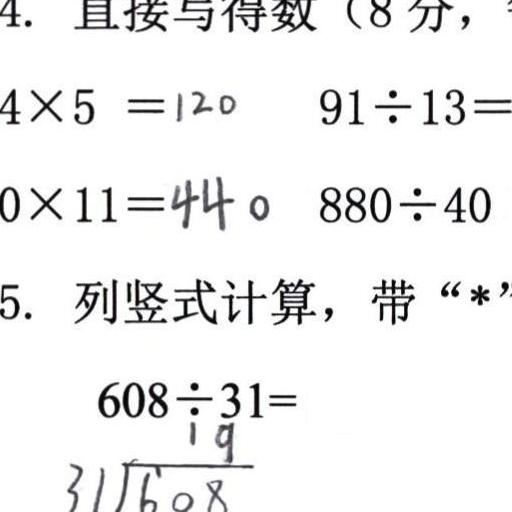ans: (165, 170, 270, 231), (169, 83, 235, 121)
